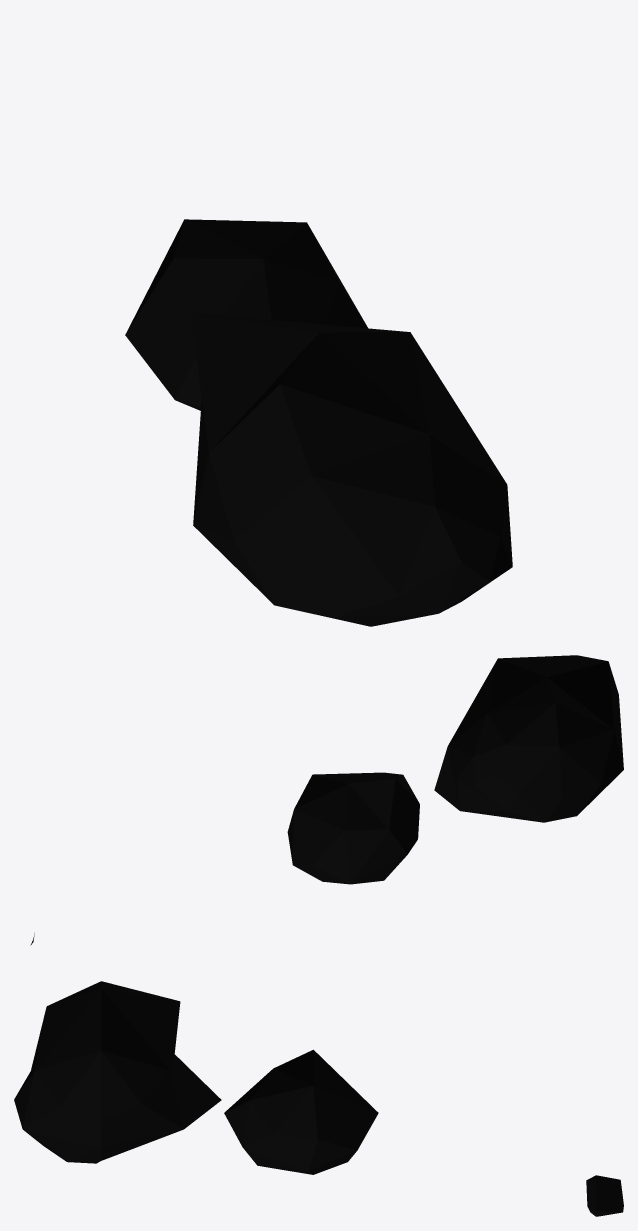
3 views of the same model, one above another, from view 1: azimuth 30°, elevation 25°; view 2: azimuth 150°, elevation 25°; view 3: azimuth 270°, elevation 25° (orthographic). The views are drawn at different scales.
Size of the model in its own units: 1.32 by 0.7207 by 2.62.
Materials: 1 (1 with a texture image).
